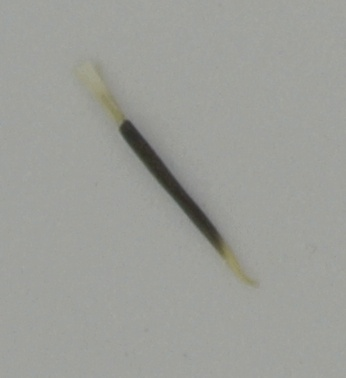เมล็ดดีเรียวยาว: (74, 60, 263, 289)
